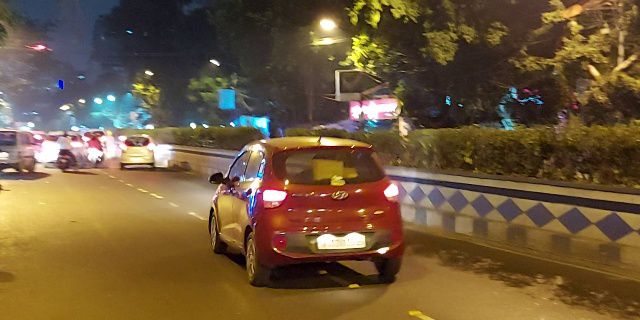Car: (216, 141, 418, 297), (117, 132, 161, 169)
